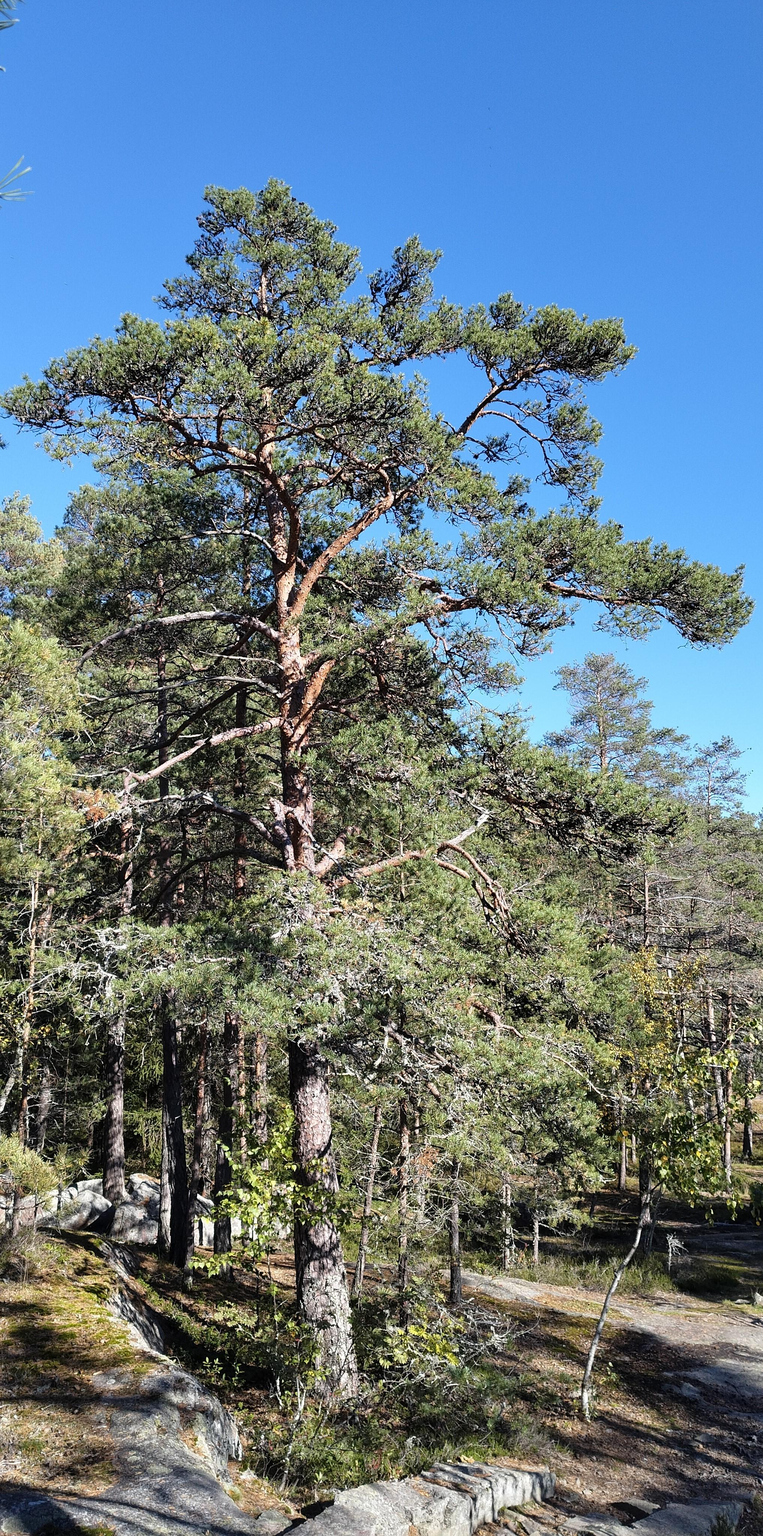Pine: (2, 174, 757, 1416)
